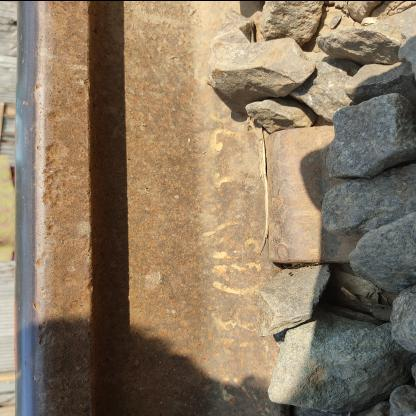Defective 1: (221, 82, 404, 288)
